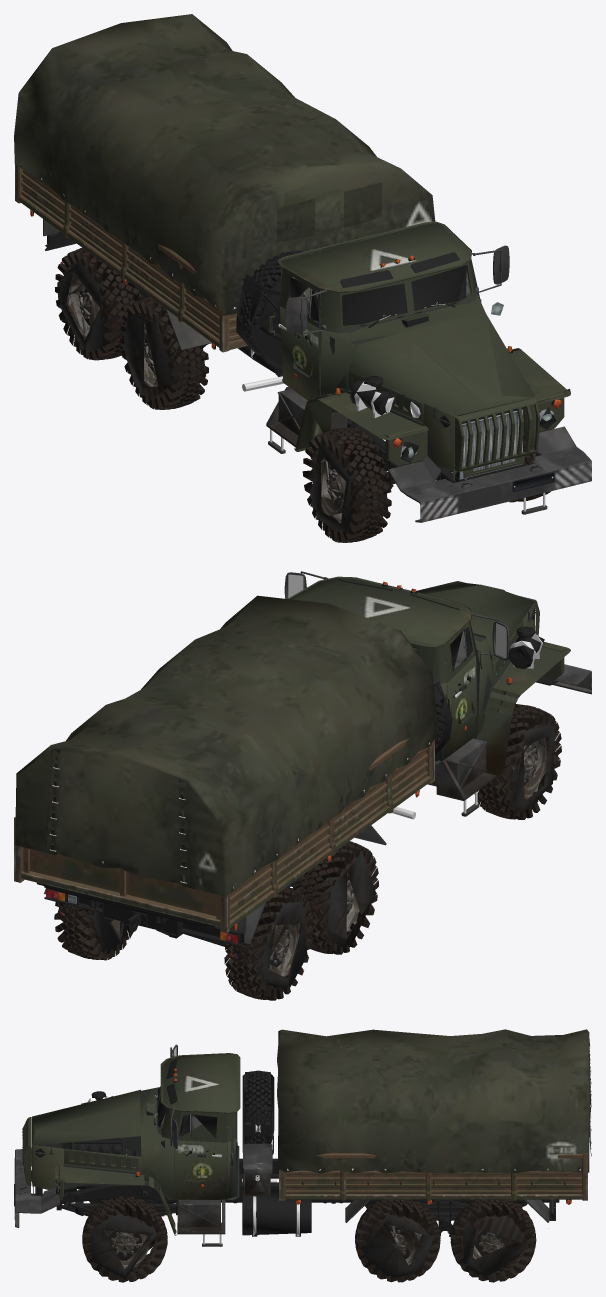
The model's file is ural-D9_320AW.glb.
3 views of the same model, one above another, from view 1: azimuth 30°, elevation 25°; view 2: azimuth 150°, elevation 25°; view 3: azimuth 270°, elevation 25° (orthographic). The views are drawn at different scales.
Visible parts, largest first — view 1: Object_114, Object_15, Object_124, Object_26, Object_37, Object_9, Object_4, Object_125, Object_70, Object_100, Object_47, Object_5 (+1 smaller); view 2: Object_114, Object_124, Object_15, Object_37, Object_26, Object_4, Object_125, Object_9, Object_47, Object_5, Object_87, Object_72; view 3: Object_114, Object_15, Object_124, Object_37, Object_4, Object_26, Object_9, Object_125, Object_47, Object_70, Object_5.
Boxes of the visible parts, <box> form: Object_114: <box>14,14,435,315</box>; Object_15: <box>268,221,570,480</box>; Object_124: <box>55,247,553,542</box>; Object_26: <box>43,219,591,522</box>; Object_37: <box>15,163,247,352</box>; Object_9: <box>240,250,525,482</box>; Object_4: <box>45,232,534,500</box>; Object_125: <box>66,274,524,523</box>; Object_70: <box>32,211,560,462</box>; Object_100: <box>459,409,522,479</box>; Object_47: <box>281,259,529,432</box>; Object_5: <box>20,163,553,511</box>; Object_114: <box>15,595,436,896</box>; Object_124: <box>54,704,561,1000</box>; Object_15: <box>288,576,570,777</box>; Object_37: <box>14,738,434,933</box>; Object_26: <box>44,571,591,943</box>; Object_4: <box>44,608,558,967</box>; Object_125: <box>111,738,547,976</box>; Object_9: <box>37,627,535,927</box>; Object_47: <box>414,611,530,764</box>; Object_5: <box>49,633,542,888</box>; Object_87: <box>288,574,506,657</box>; Object_72: <box>46,581,512,958</box>; Object_114: <box>277,1029,591,1173</box>; Object_15: <box>22,1053,240,1235</box>; Object_124: <box>82,1196,536,1282</box>; Object_37: <box>279,1153,587,1200</box>; Object_4: <box>31,1072,559,1257</box>; Object_26: <box>14,1044,553,1246</box>; Object_9: <box>35,1070,272,1210</box>; Object_125: <box>104,1217,516,1268</box>; Object_47: <box>49,1090,239,1199</box>; Object_70: <box>56,1059,571,1219</box>; Object_5: <box>81,1046,591,1246</box>.
Bounding box in the file's own units: 2.63 × 2.99 × 7.89.
Materials: 18 (10 with a texture image).
